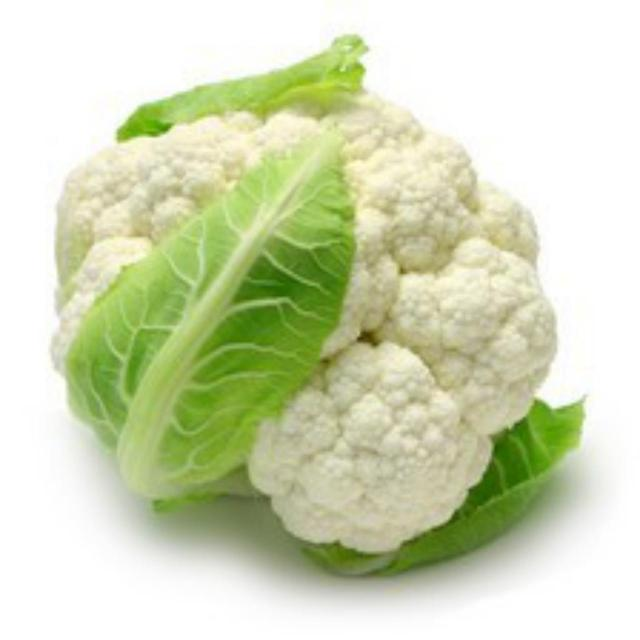cauliflower: (47, 28, 572, 568)
